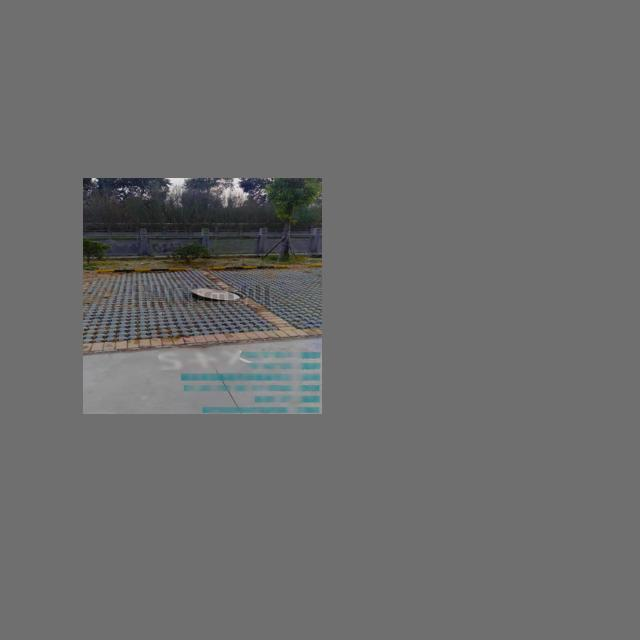uncovered: (188, 288, 247, 302)
